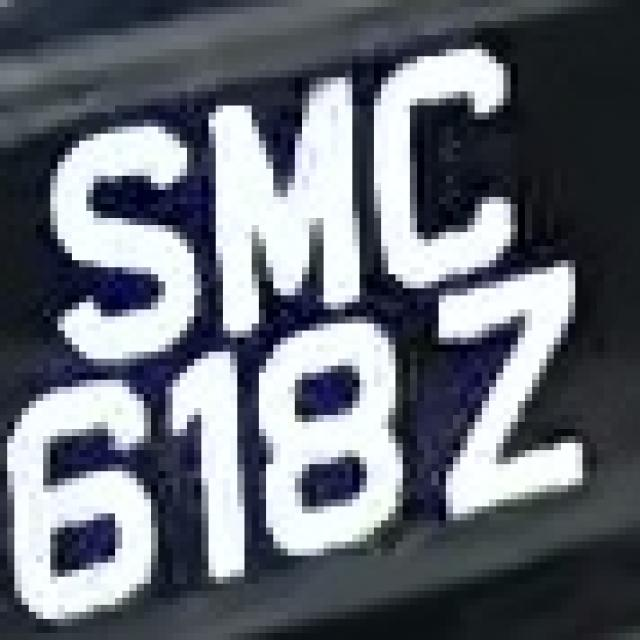1: (165, 366, 266, 590)
6: (0, 358, 172, 640)
8: (252, 323, 417, 591)
C: (352, 28, 540, 274)
M: (201, 64, 367, 324)
S: (36, 120, 201, 366)
Z: (388, 267, 604, 535)
